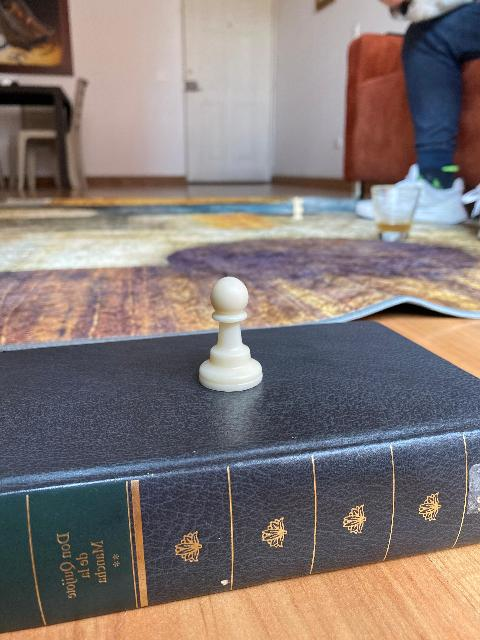white-pawn: (198, 274, 264, 392)
